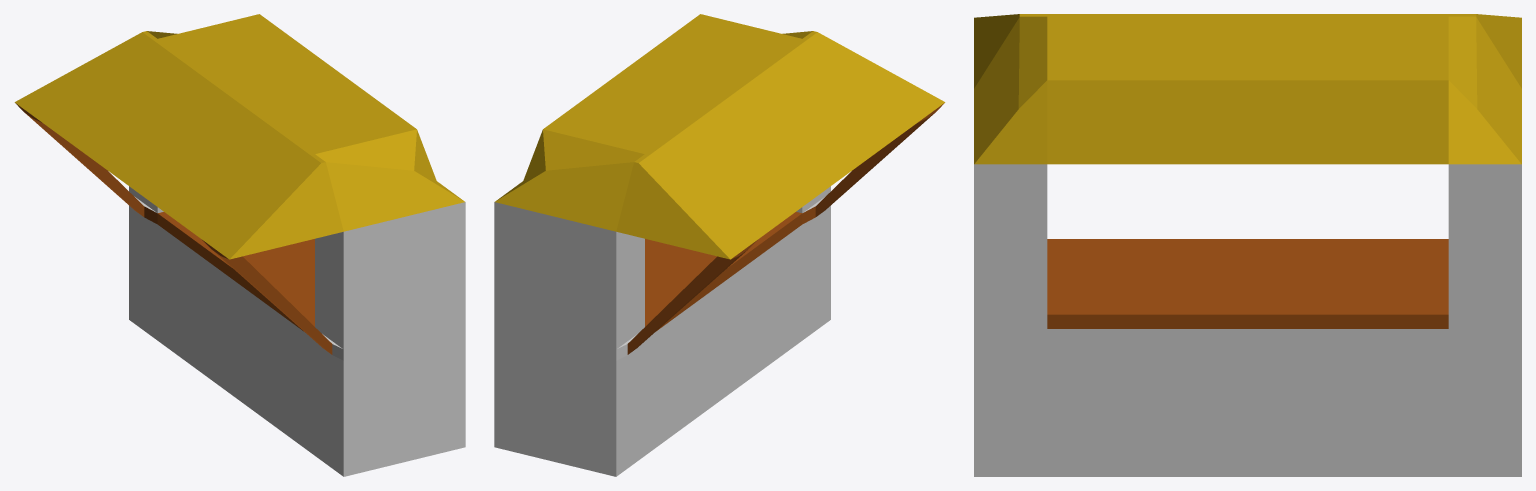
Rendered from shop.fbx.
3 views of the same model, side by side, from view 1: azimuth 30°, elevation 25°; view 2: azimuth 150°, elevation 25°; view 3: azimuth 270°, elevation 25° (orthographic). The views are drawn at different scales.
Parts seen in each view (by area): view 1: Cube; view 2: Cube; view 3: Cube.
Part boxes in pixels (x1,y1,x2,y2): Cube: [14, 14, 465, 476]; Cube: [494, 14, 945, 476]; Cube: [974, 14, 1521, 476].
Size of the model in its own units: 888 by 1085 by 1401.
